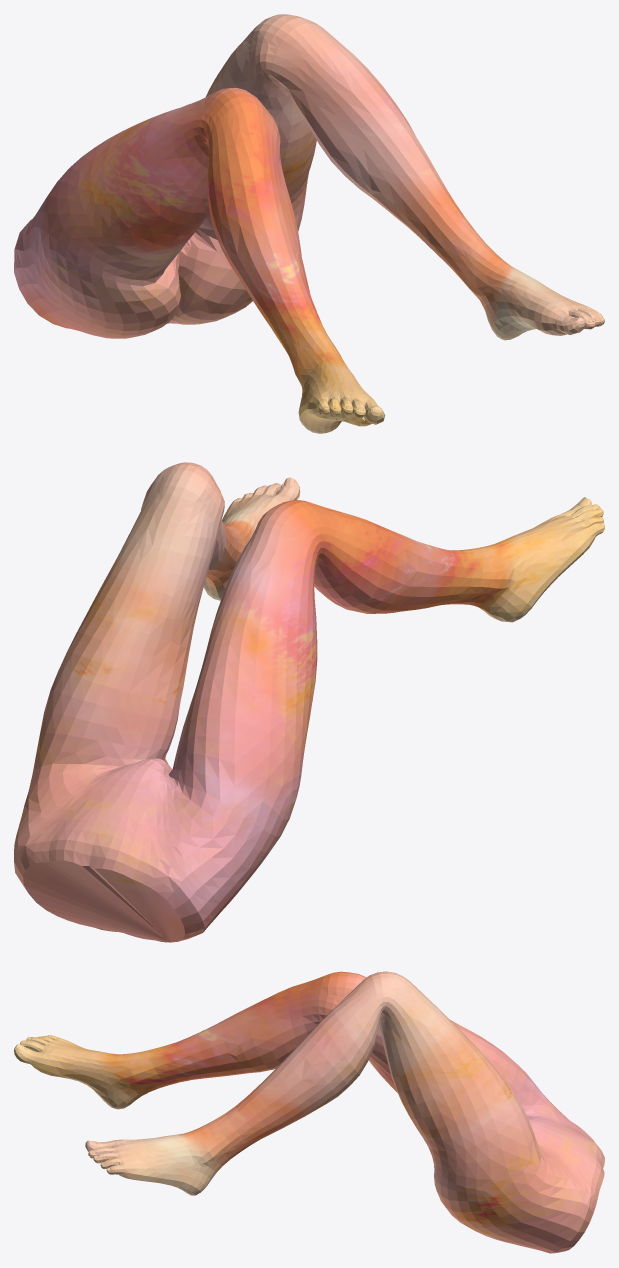
Rendered from Band_Leg_04 (1).fbx.
3 renders of one model, top to bottom at view 1: azimuth 30°, elevation 25°; view 2: azimuth 150°, elevation 25°; view 3: azimuth 270°, elevation 25°, orthographic. The views are drawn at different scales.
Visible parts, largest first — view 1: scene02_Leg; view 2: scene02_Leg; view 3: scene02_Leg.
Part boxes in pixels (bbox=[...]): scene02_Leg: bbox=[14, 14, 604, 433]; scene02_Leg: bbox=[14, 462, 604, 942]; scene02_Leg: bbox=[14, 971, 604, 1253].
Bounding box in the file's own units: 254 × 276 × 530.
1 material, 1 textured.
